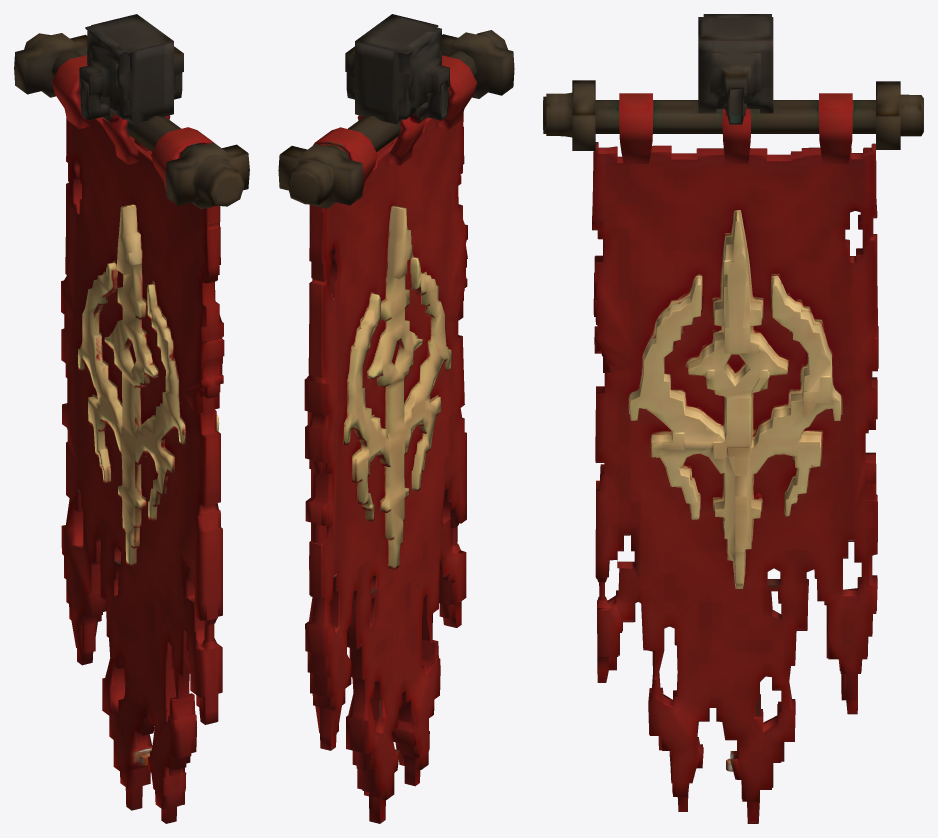
File: estandarte.fbx
3 renders of one model, left to right at view 1: azimuth 30°, elevation 25°; view 2: azimuth 150°, elevation 25°; view 3: azimuth 270°, elevation 25°, orthographic.
Visible parts, largest first — view 1: e095fda2_02a2_4986_8614_55062f031693; view 2: e095fda2_02a2_4986_8614_55062f031693; view 3: e095fda2_02a2_4986_8614_55062f031693.
Part boxes in pixels (left/top/right/bottom): e095fda2_02a2_4986_8614_55062f031693: left=14, top=14, right=249, bottom=823; e095fda2_02a2_4986_8614_55062f031693: left=278, top=14, right=514, bottom=823; e095fda2_02a2_4986_8614_55062f031693: left=543, top=14, right=923, bottom=823.
Bounding box in the file's own units: 0.1245 × 0.9995 × 0.438.
1 material, 1 textured.
